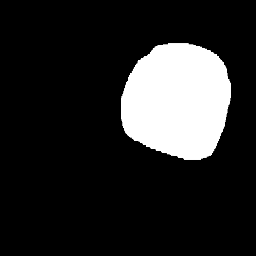mass: (126, 42, 228, 155)
